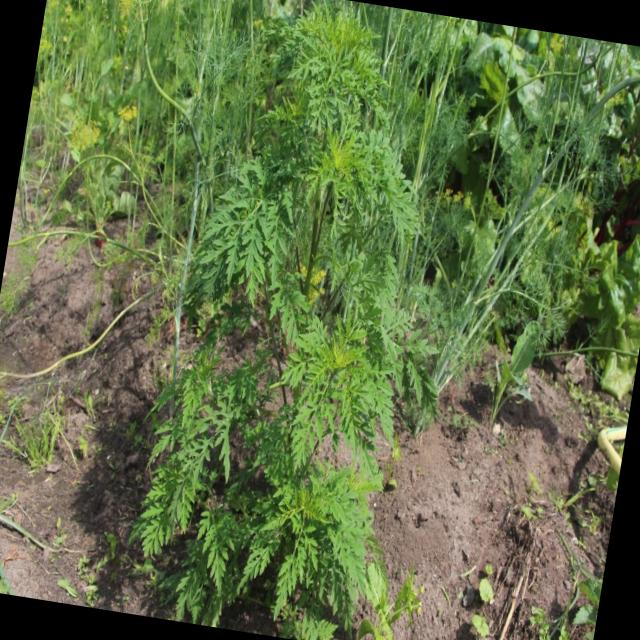ambrosia: (233, 255, 440, 640), (245, 0, 447, 234), (120, 322, 260, 583)
